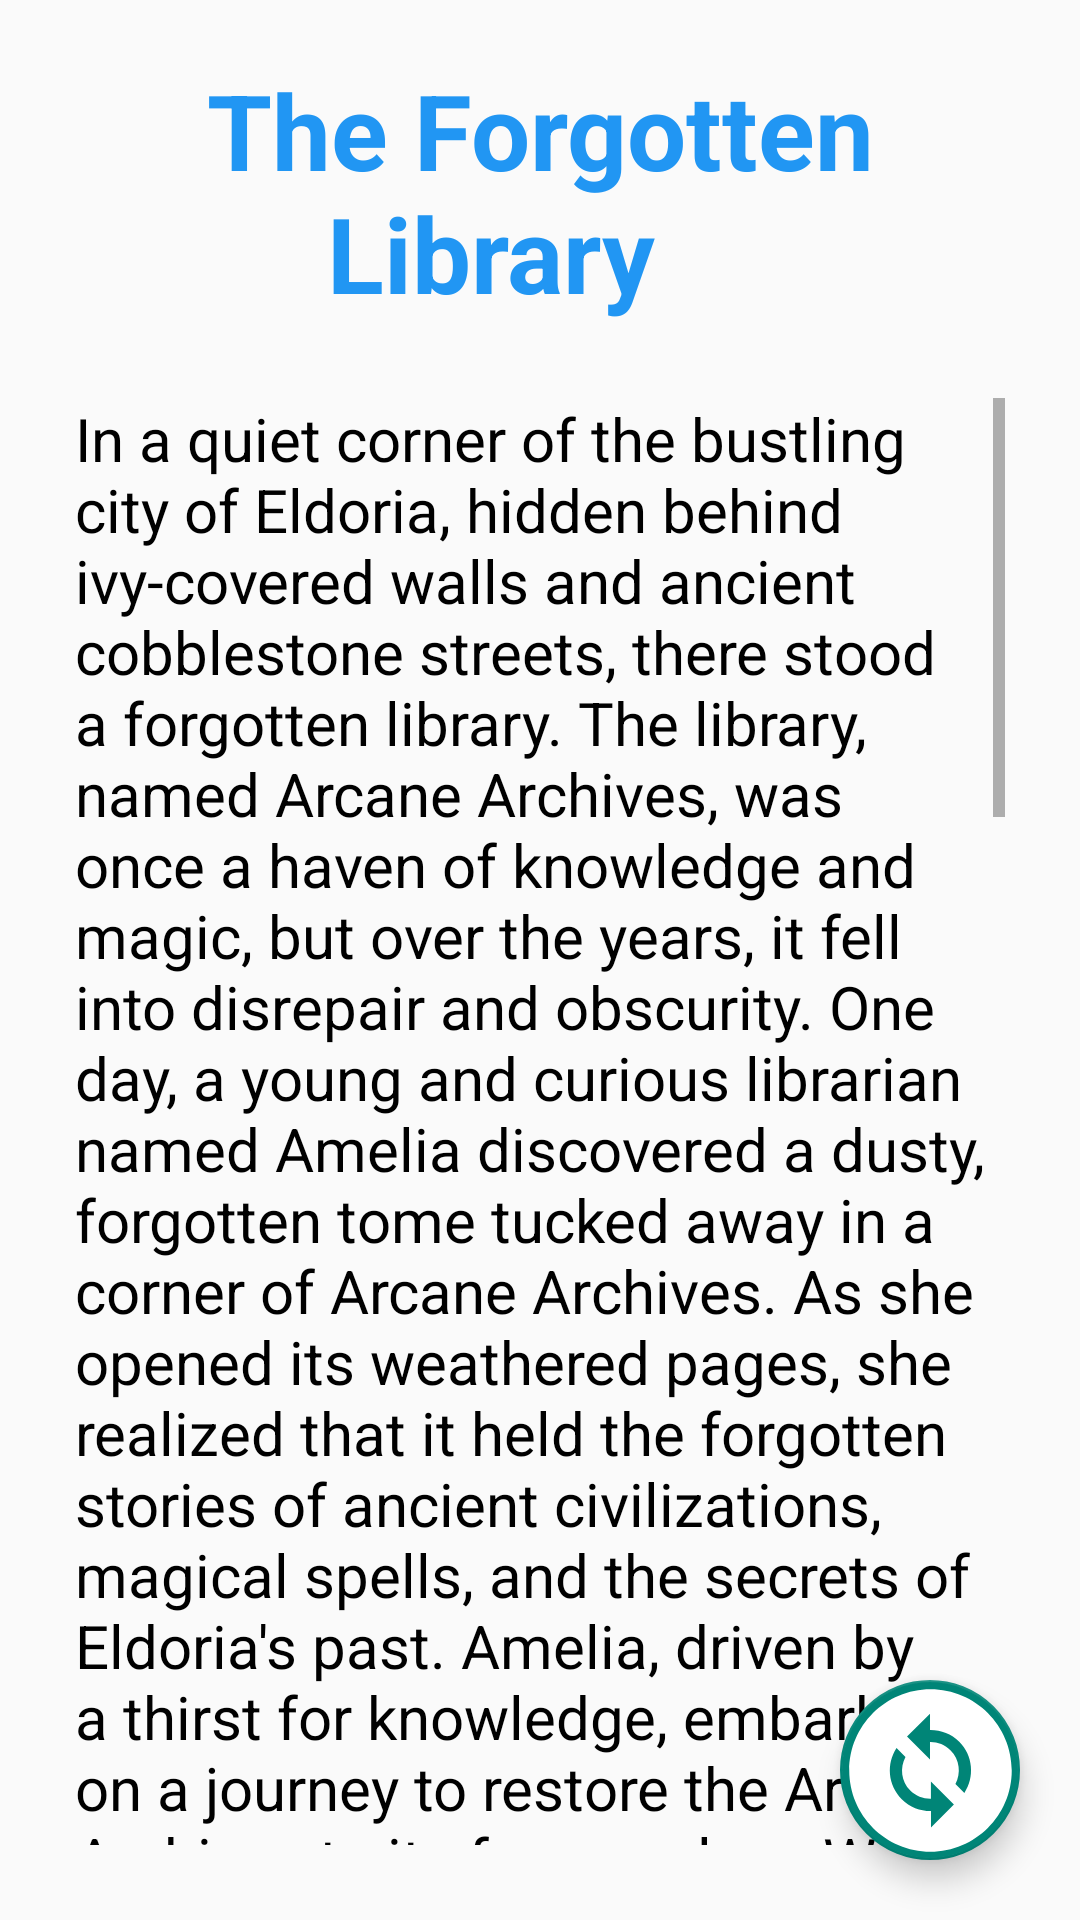

Where icons sit on this 1080px×1920px app screen, as (x1, y1, x2, y2):
change circle: (840, 1680, 1020, 1860)
